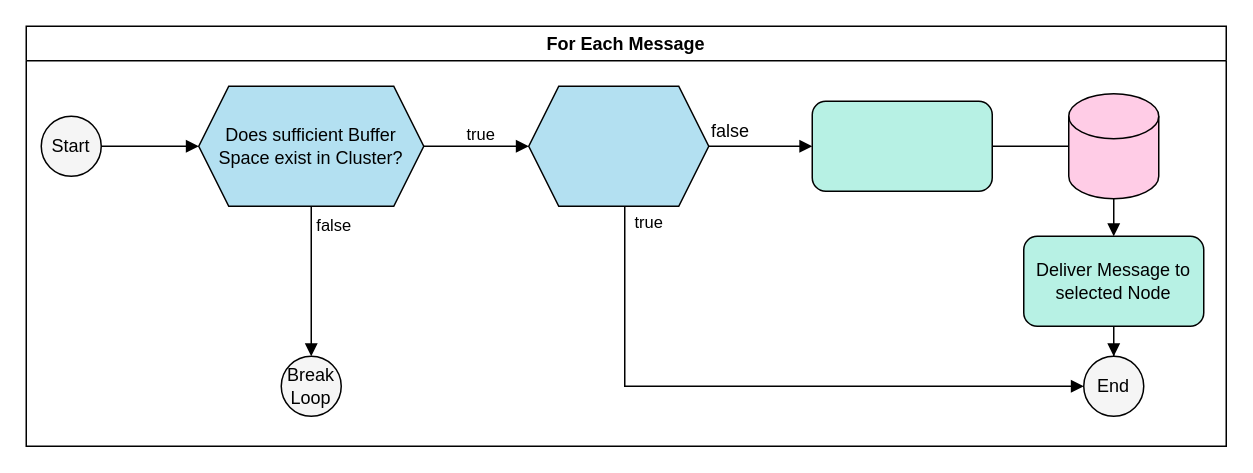
This 1253x473 diagram has some shape labels left out. Here are the shapes that lost their labels. From the top down, the centre of each, then its label:
[618,145]: Does Message already exist in Cluster?
[901,145]: Query connected Node in Cluster with largest free buffersize
[1113,145]: selected Node
